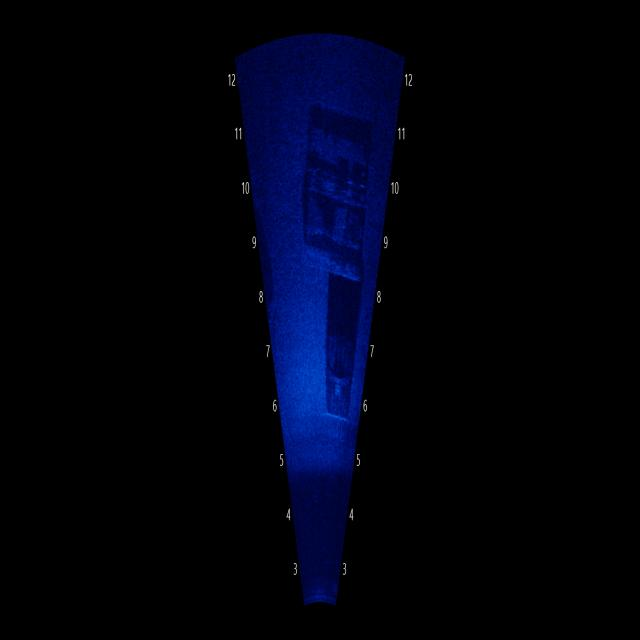square: (297, 107, 369, 286), (314, 308, 358, 437)
